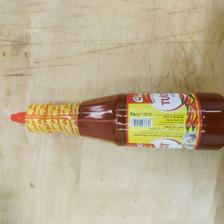Tuong: (10, 91, 224, 152)
